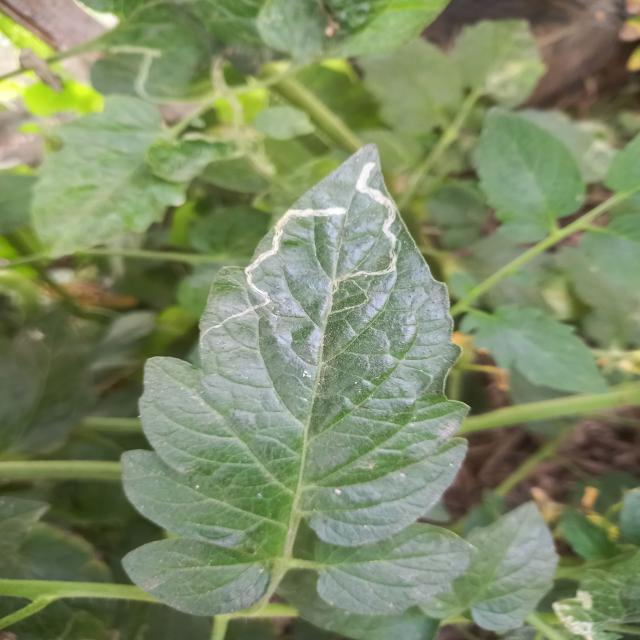Tuta absoluta: (197, 181, 349, 345), (348, 161, 406, 281)
